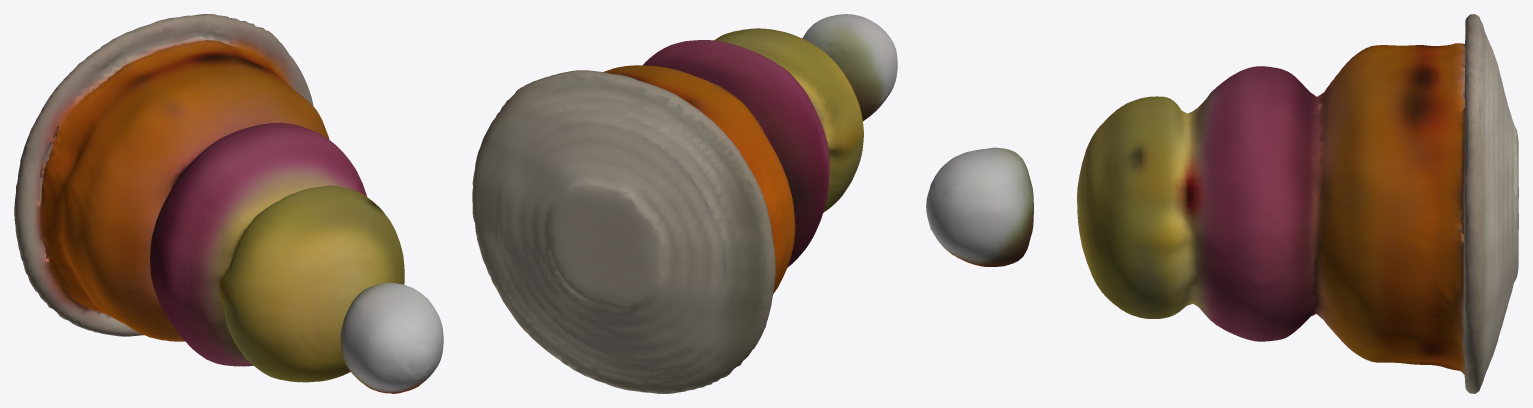
The model's file is chicken.glb.
3 views of the same model, side by side, from view 1: azimuth 30°, elevation 25°; view 2: azimuth 150°, elevation 25°; view 3: azimuth 270°, elevation 25° (orthographic). The views are drawn at different scales.
Size of the model in its own units: 0.6372 by 0.6282 by 1.
